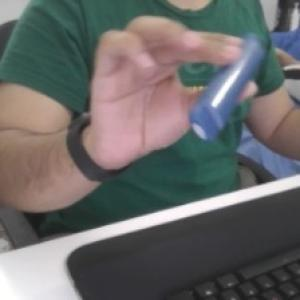Diamond-E-Ciggirate: (188, 32, 271, 142)
